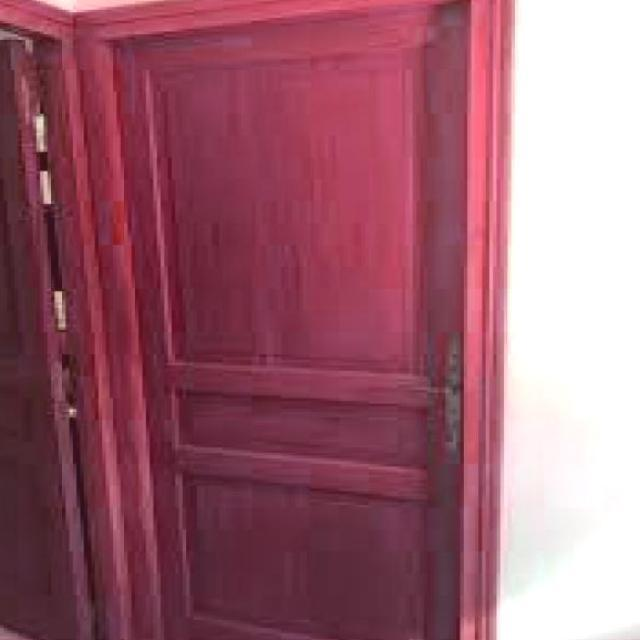door: (97, 1, 496, 638)
